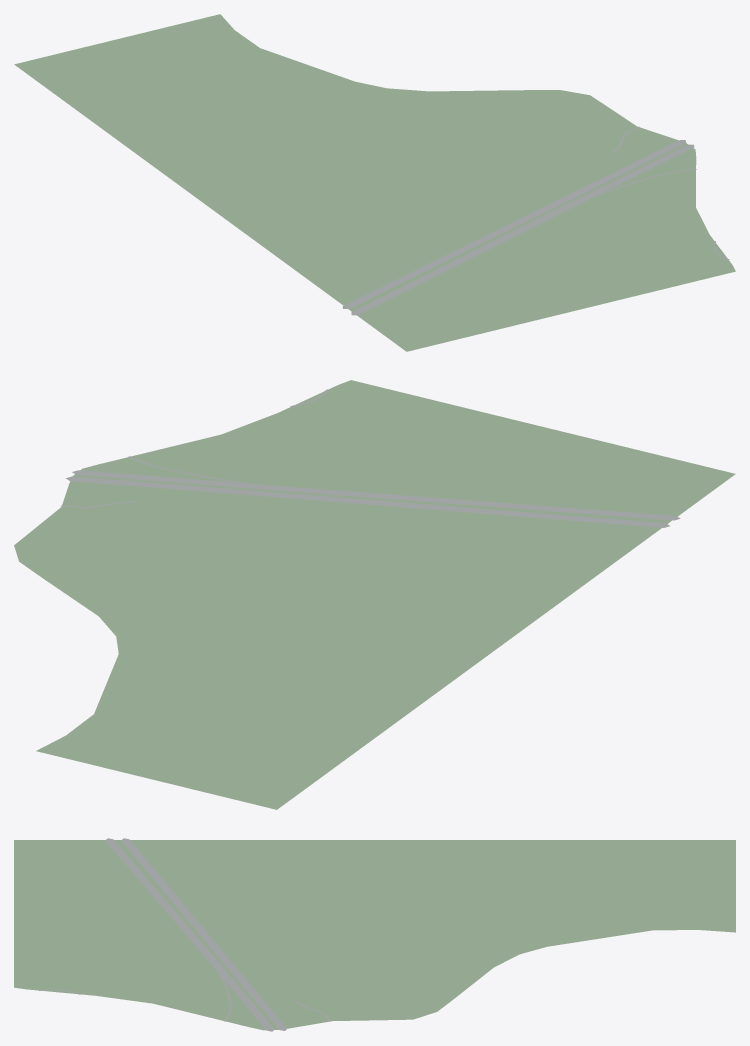
File: -1_6-known-fine.glb
3 views of the same model, one above another, from view 1: azimuth 30°, elevation 25°; view 2: azimuth 150°, elevation 25°; view 3: azimuth 270°, elevation 25° (orthographic). The views are drawn at different scales.
Size of the model in its own units: 631 by 0.1 by 995.
